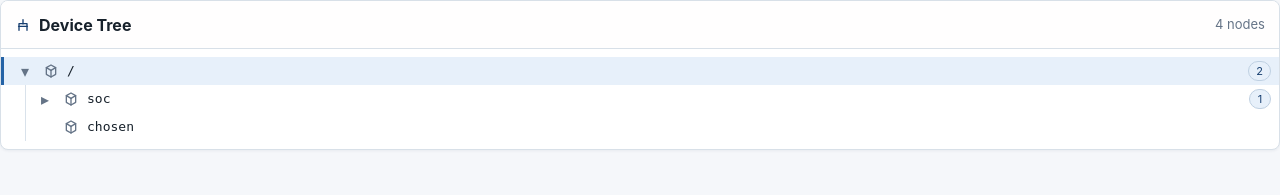
it: DeviceTreeView › expands and collapses child node descendants
Step 1. Click the button named "Toggle soc" → (45, 99), box left=33, top=87, right=57, bottom=111
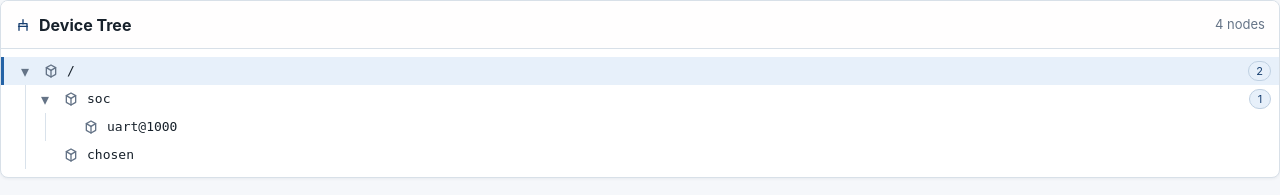
Expected: the text "uart@1000" is shown, left=107, top=117, right=178, bottom=137
Step 2. Click the button named "Toggle soc" → (45, 99), box left=33, top=87, right=57, bottom=111
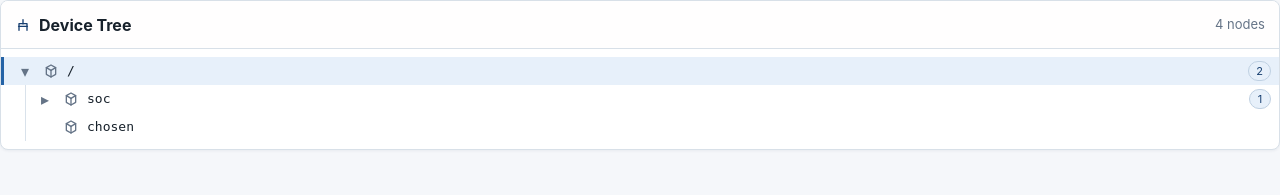
Expected: the button "uart@1000" is gone
